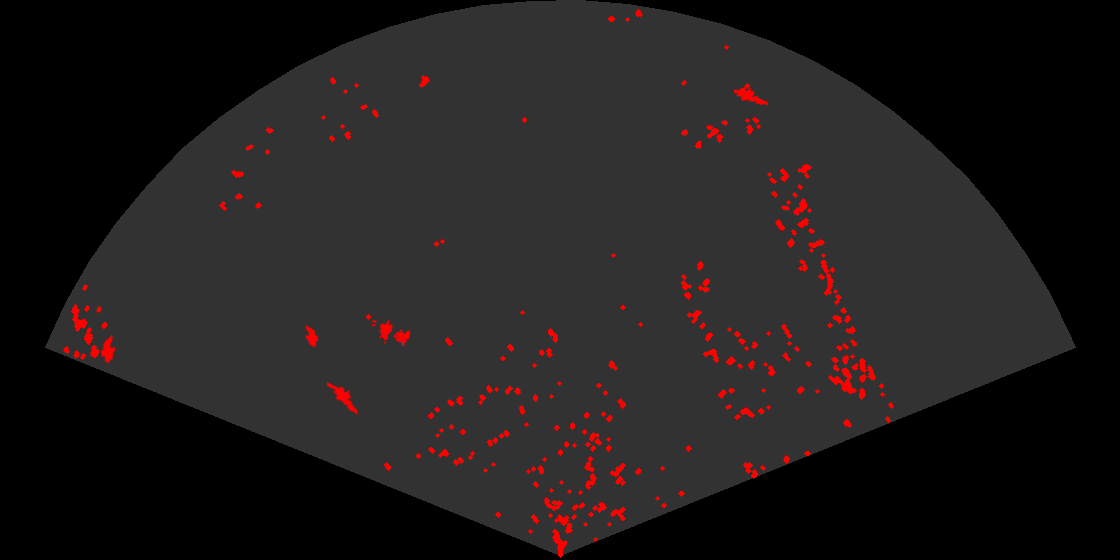AUV: (99, 334, 117, 365), (304, 324, 320, 349)
cage: (372, 320, 412, 348)
frogman: (327, 380, 362, 415), (734, 86, 768, 106)
